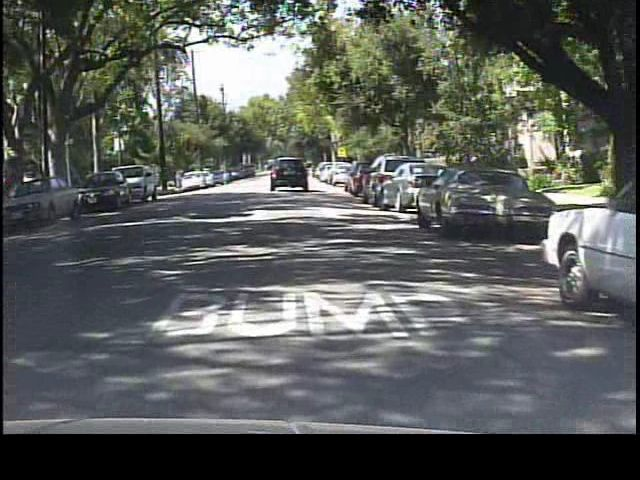person: (174, 166, 188, 195)
